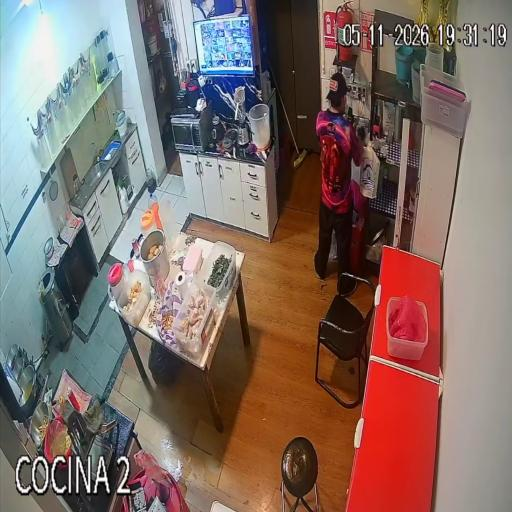Envase Ketchup: (66, 387, 79, 410)
Envase Llajua: (58, 395, 65, 404)
Jarra1: (108, 263, 124, 296)
Jarra2: (141, 210, 157, 236)
Jarra3: (158, 198, 178, 246)
Microondas: (171, 104, 213, 151)
Persona1: (314, 73, 365, 294)
Tapa de olla: (44, 237, 53, 255)
Taper: (37, 280, 46, 300)
Taper2: (199, 241, 237, 301)
Taper3: (173, 280, 218, 358)
Taper4: (116, 270, 150, 325)
olla1: (141, 229, 169, 289)
